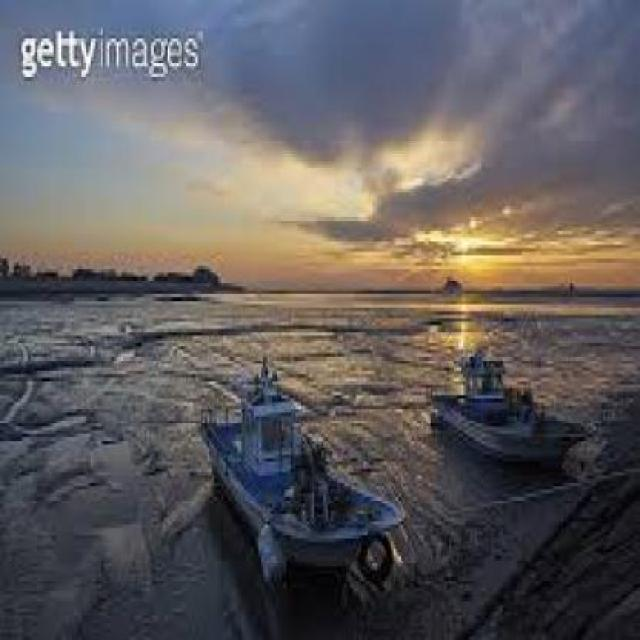fish-b: (201, 365, 419, 606), (420, 340, 602, 480)
